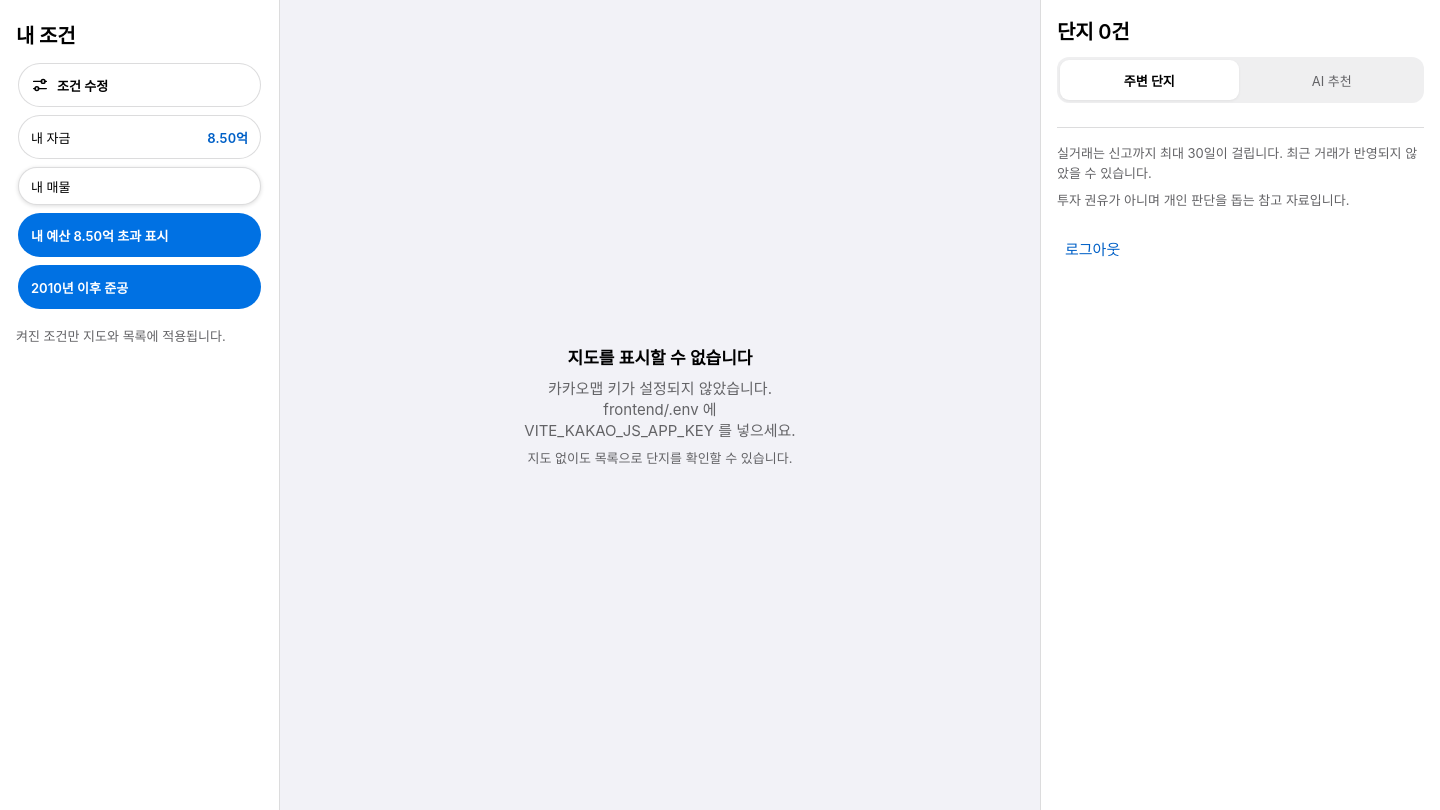
it: 지도 화면 › 이 주변에서 찾기 › 지도가 아직 뜨지 않았으면 비활성 + 이유를 보인다(조용히 죽이지 않는다)
Step 1. Click the tab "AI 추천" → (1332, 80), box x1=1242 y1=60 x2=1421 y2=100
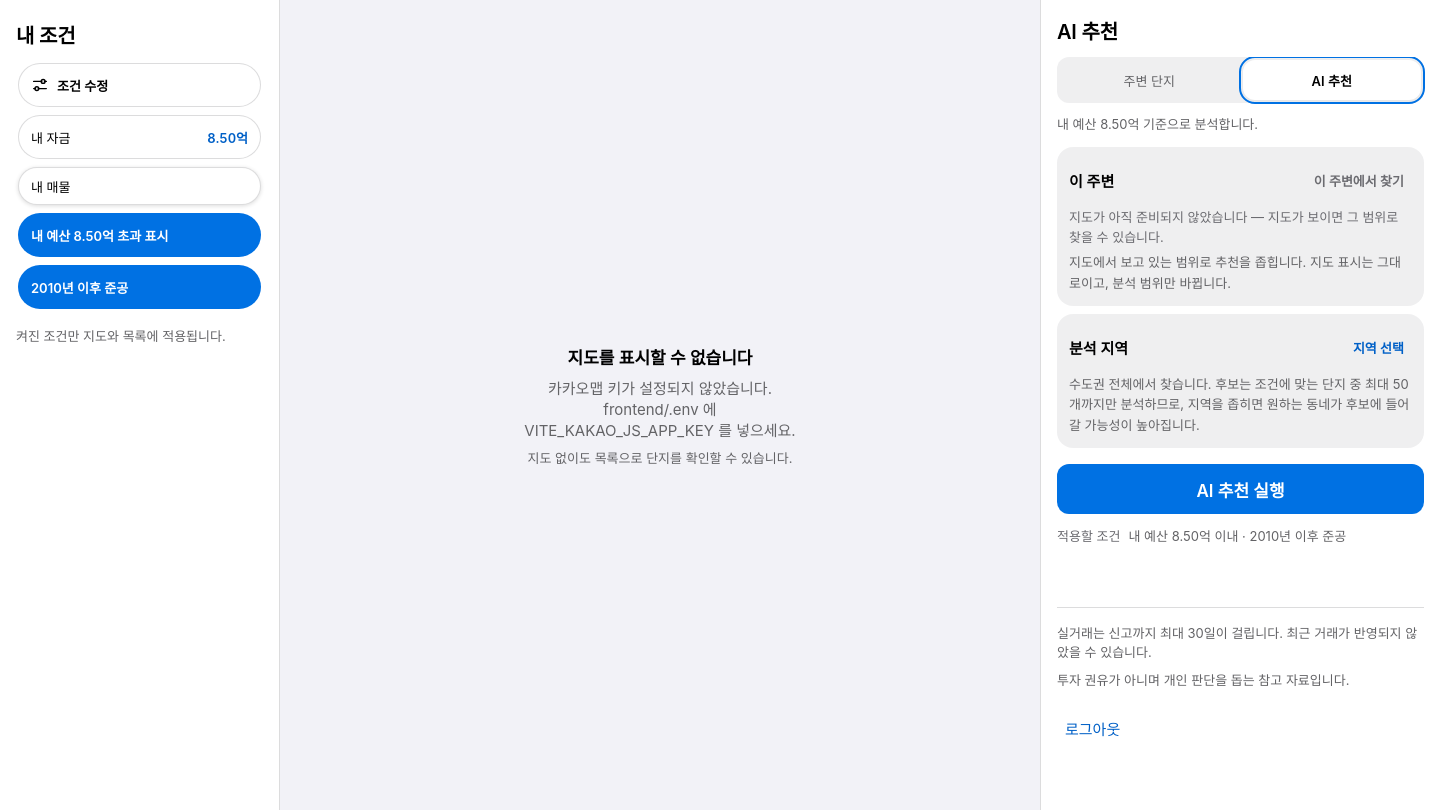
Expected: the button "이 주변에서 찾기" is disabled, x1=1306 y1=158 x2=1412 y2=202
Expected: the text "지도가 아직 준비되지 않았습니다 — 지도가 보이면 그 범위로 찾을 수 있습니다." is shown, x1=1069 y1=206 x2=1412 y2=248
